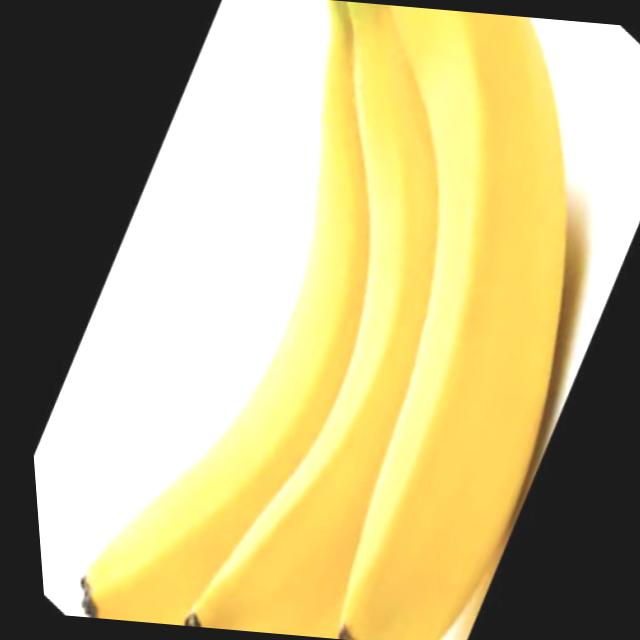Banana: (32, 0, 606, 640)
